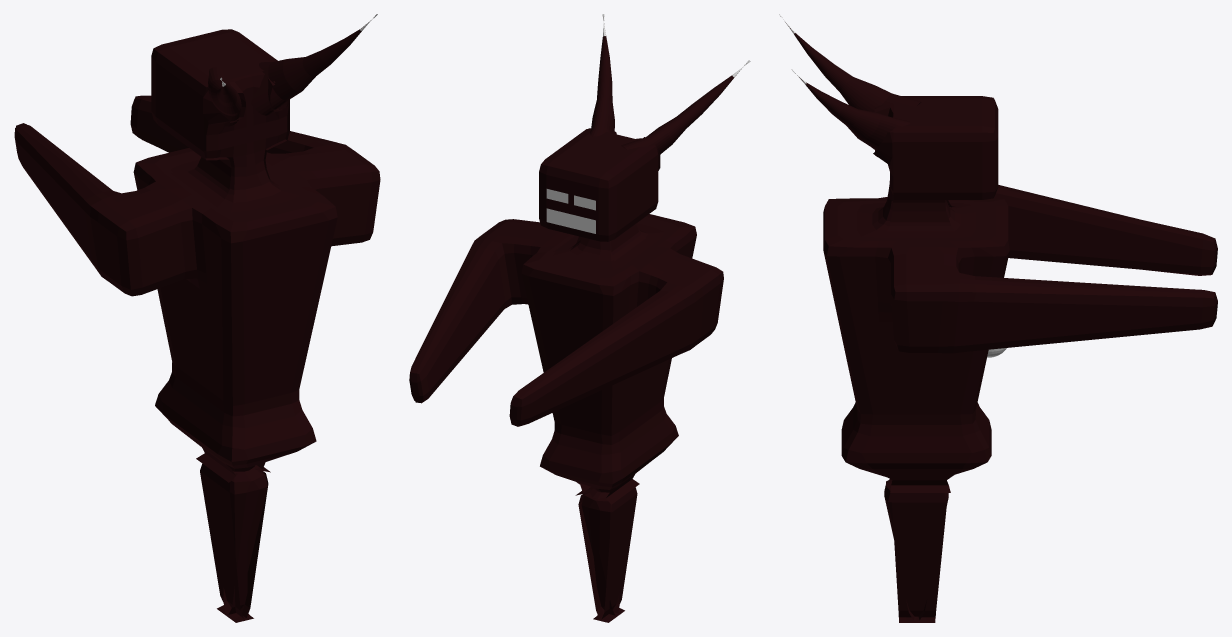
The model's file is Demon1.2.fbx.
3 renders of one model, left to right at view 1: azimuth 30°, elevation 25°; view 2: azimuth 150°, elevation 25°; view 3: azimuth 270°, elevation 25°, orthographic. The views are drawn at different scales.
Visible parts, largest first — view 1: Cube; view 2: Cube; view 3: Cube.
Boxes of the visible parts, x1,y1,x2,y2 form: Cube: (14, 14, 380, 622); Cube: (409, 14, 750, 622); Cube: (779, 14, 1217, 622).
Bounding box in the file's own units: 272 × 632 × 432.
